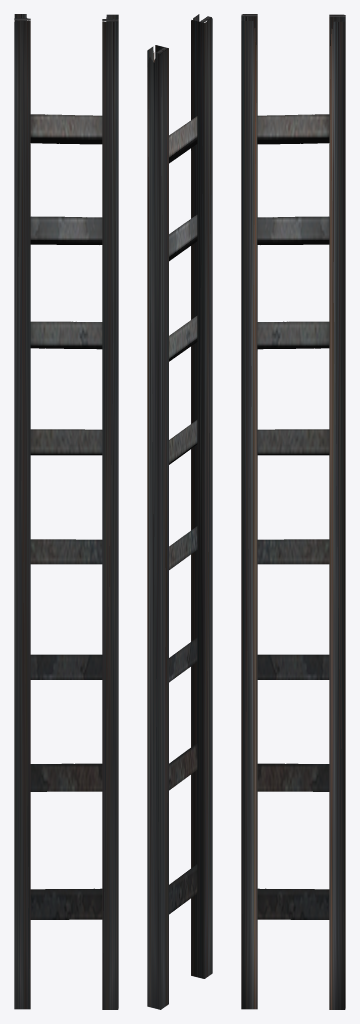
File: Ladder.fbx
The picture shows the model from 3 angles, left to right: view 1: azimuth 90°, elevation 25°; view 2: azimuth 150°, elevation 25°; view 3: azimuth 270°, elevation 25°; orthographic projection. The views are drawn at different scales.
Parts seen in each view (by area): view 1: Ladder2, Ladder1; view 2: Ladder2, Ladder1; view 3: Ladder2, Ladder1.
Boxes of the visible parts, x1,y1,x2,y2 form: Ladder2: (14, 14, 118, 1009); Ladder1: (30, 114, 102, 919); Ladder2: (147, 14, 212, 1009); Ladder1: (169, 116, 197, 914); Ladder2: (241, 14, 345, 1009); Ladder1: (257, 40, 330, 919).
Size of the model in its own units: 59.52 by 3609 by 346.
